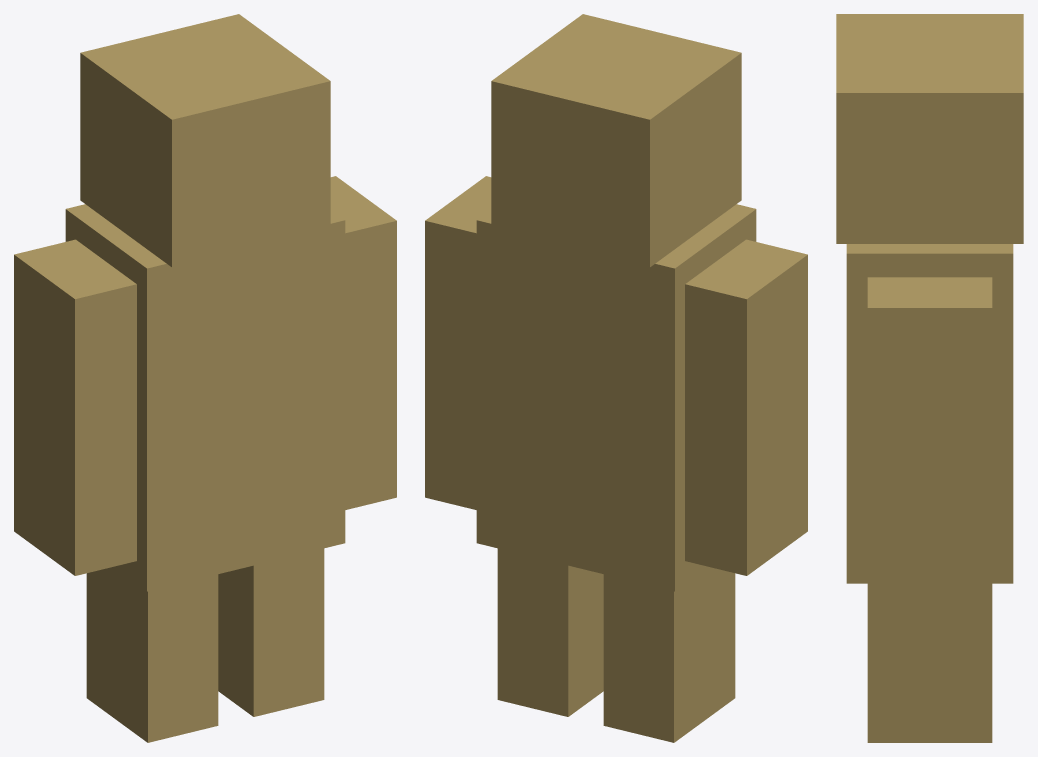
File: actor_human.obj
3 views of the same model, side by side, from view 1: azimuth 30°, elevation 25°; view 2: azimuth 150°, elevation 25°; view 3: azimuth 270°, elevation 25° (orthographic). The views are drawn at different scales.
Parts seen in each view (by area): view 1: actor_human; view 2: actor_human; view 3: actor_human.
Part boxes in pixels (<box>): actor_human: <box>14,14,396,742</box>; actor_human: <box>425,14,807,742</box>; actor_human: <box>836,14,1023,742</box>.
Size of the model in its own units: 0.73 by 1.37 by 0.36.
